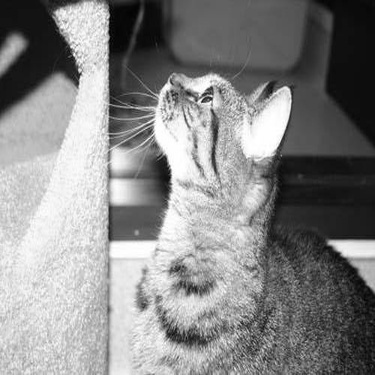cat: (116, 70, 372, 373)
